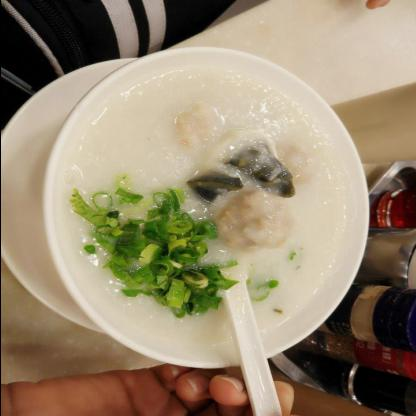Joke: (56, 53, 359, 373)
